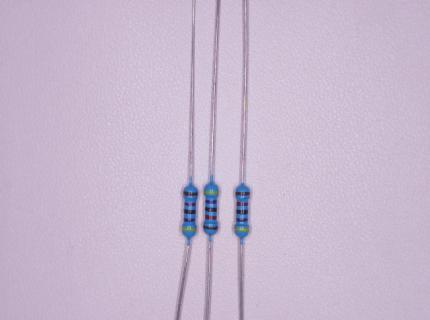Black band: (236, 210, 248, 215), (205, 207, 217, 212), (184, 209, 196, 214), (184, 218, 195, 222)
Brown band: (183, 191, 198, 196), (203, 225, 218, 230), (235, 192, 250, 196)
Red band: (184, 202, 196, 207), (205, 215, 217, 220), (236, 201, 248, 206)
Violet band: (205, 200, 217, 204), (236, 218, 248, 222)
Yellow band: (204, 190, 219, 195), (182, 227, 197, 232), (234, 227, 249, 232)
